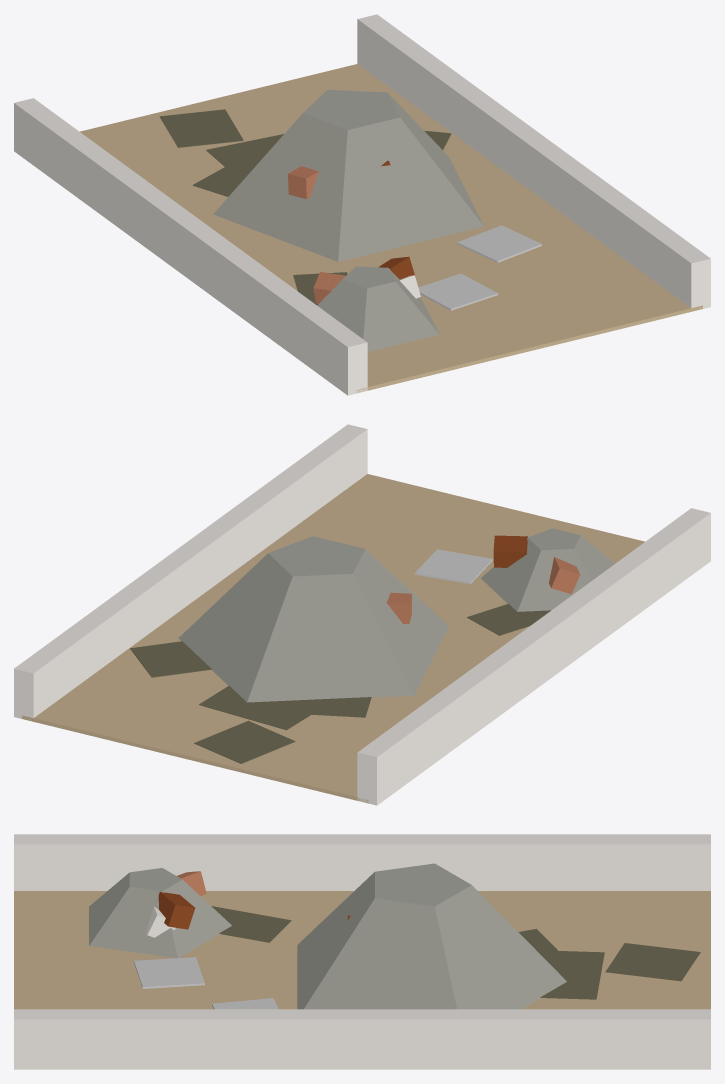
File: SM_Solar_v0_Escombro_LOD1.fbx
3 views of the same model, one above another, from view 1: azimuth 30°, elevation 25°; view 2: azimuth 150°, elevation 25°; view 3: azimuth 270°, elevation 25° (orthographic). The views are drawn at different scales.
Parts seen in each view (by area): view 1: SM_sagunto_vivo_v5_LOD1; view 2: SM_sagunto_vivo_v5_LOD1; view 3: SM_sagunto_vivo_v5_LOD1.
Boxes of the visible parts, x1,y1,x2,y2 form: SM_sagunto_vivo_v5_LOD1: (14, 14, 710, 395); SM_sagunto_vivo_v5_LOD1: (14, 424, 710, 805); SM_sagunto_vivo_v5_LOD1: (14, 834, 710, 1069).
Size of the model in its own units: 6.28 by 1.6 by 10.
